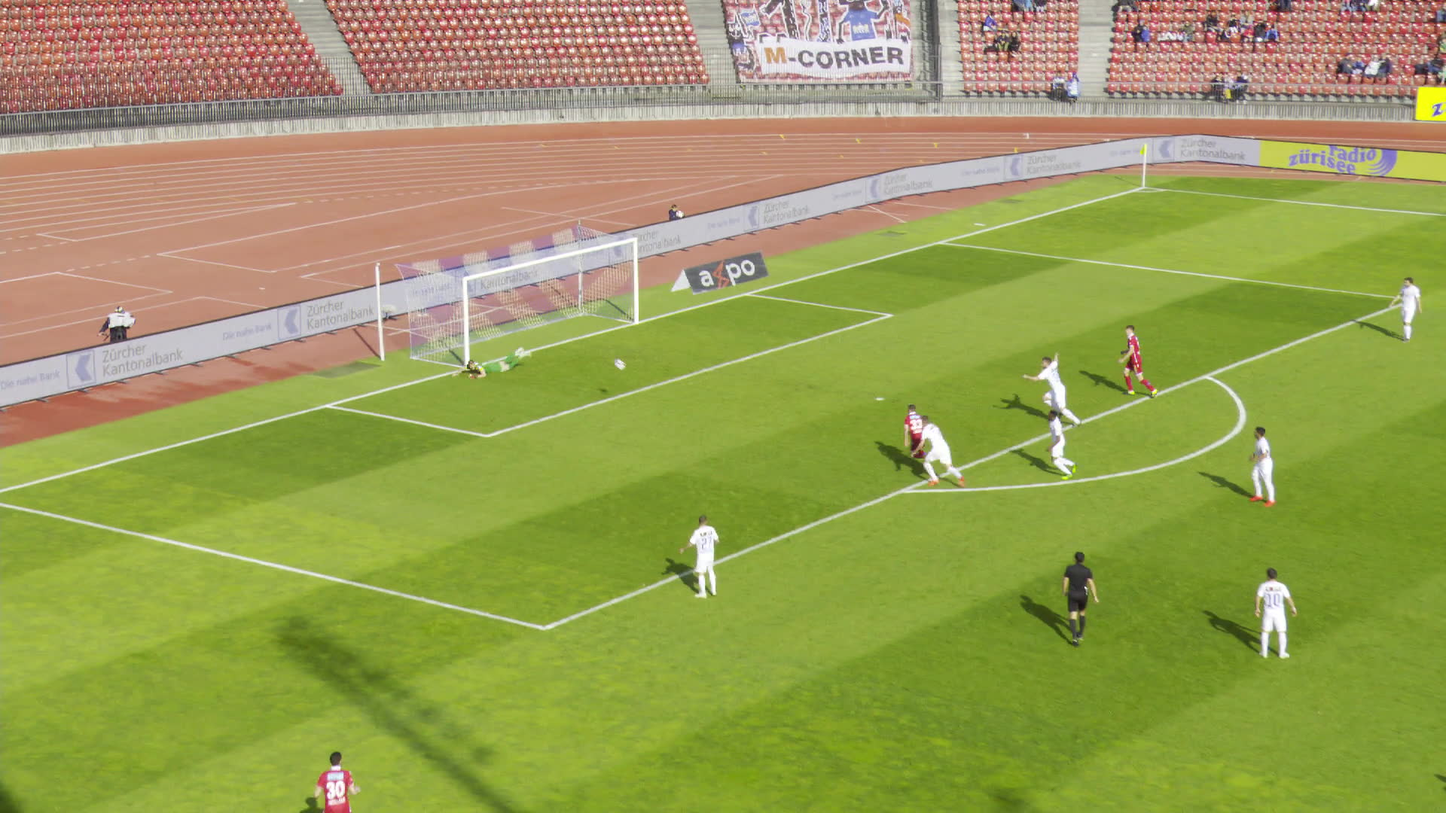ball: (615, 358, 624, 369)
player: (1021, 351, 1083, 428), (1252, 565, 1295, 658), (913, 414, 962, 488), (676, 511, 718, 596), (306, 750, 360, 812), (1118, 324, 1158, 397), (898, 401, 937, 469), (455, 343, 529, 378), (1044, 409, 1078, 480), (1247, 425, 1276, 507), (1387, 274, 1418, 341)
referee: (1059, 548, 1098, 644)
